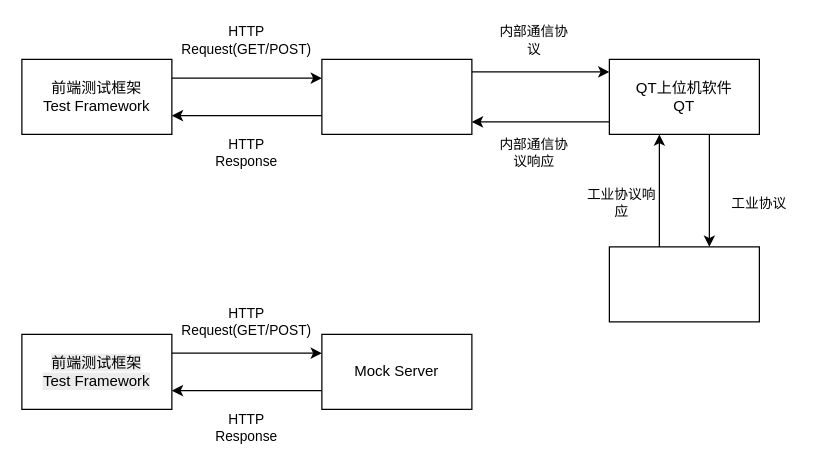
Image size: 819x468. Some labels were removed from this diagram. Each missing label, with the centre of its shape:
PLC设备: pixel 683 284
QT Web层 Web: pixel 396 96
